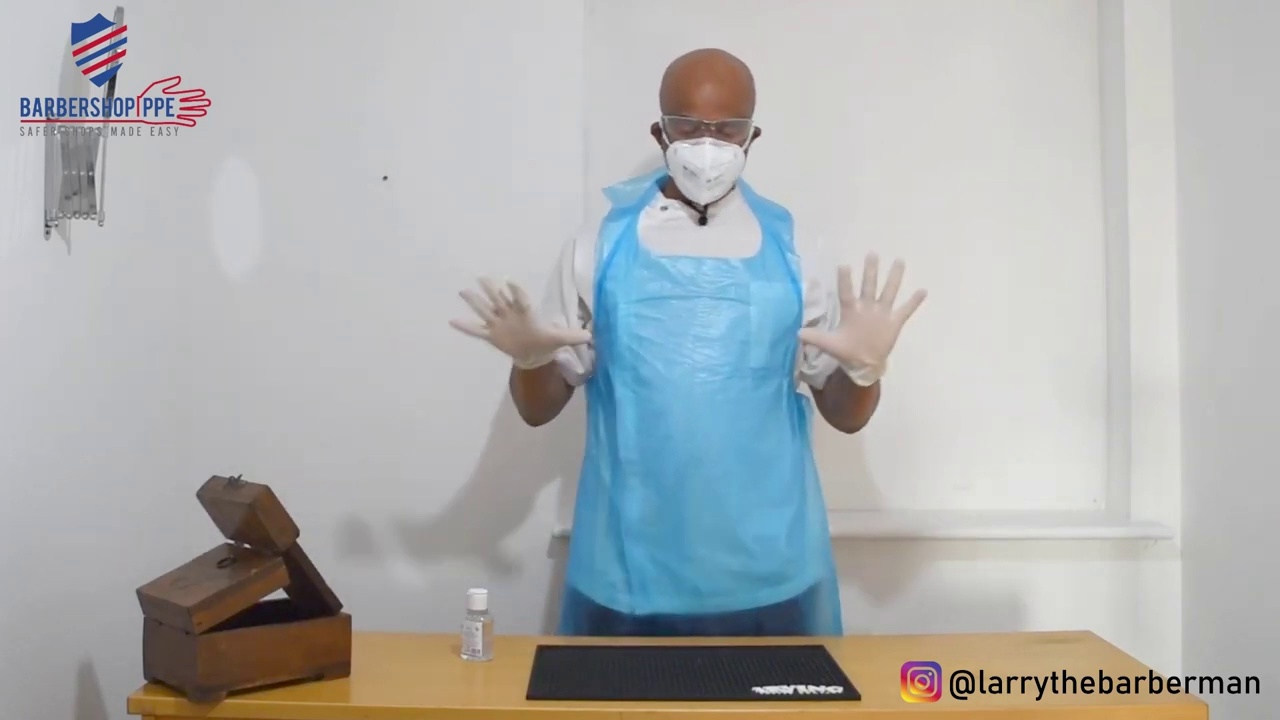Apron: (575, 173, 826, 655)
Glove: (797, 250, 936, 379), (448, 264, 594, 382)
Mask: (627, 134, 788, 211)
No_Hairnet: (643, 48, 780, 101)
